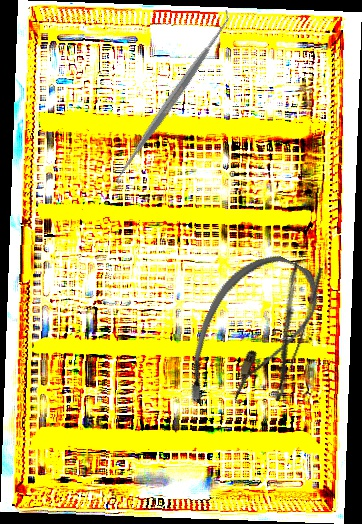Cannula: (170, 238, 330, 432)
Dressing Forceps: (252, 259, 326, 403)
Spatula Surgical: (105, 7, 241, 188)
